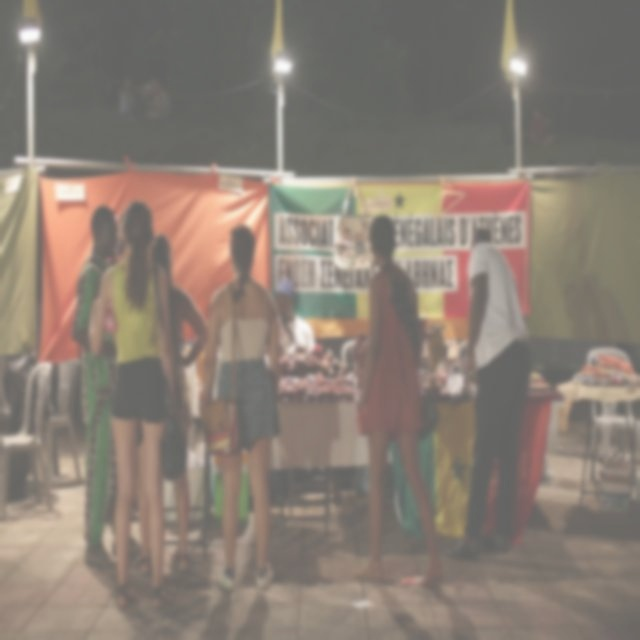pessoa: (86, 198, 179, 616), (349, 212, 447, 592), (440, 225, 536, 562), (200, 223, 282, 593), (70, 204, 144, 570), (135, 233, 209, 578), (1, 348, 54, 506), (274, 276, 317, 356), (424, 318, 450, 384), (110, 205, 128, 263), (128, 457, 144, 522)
